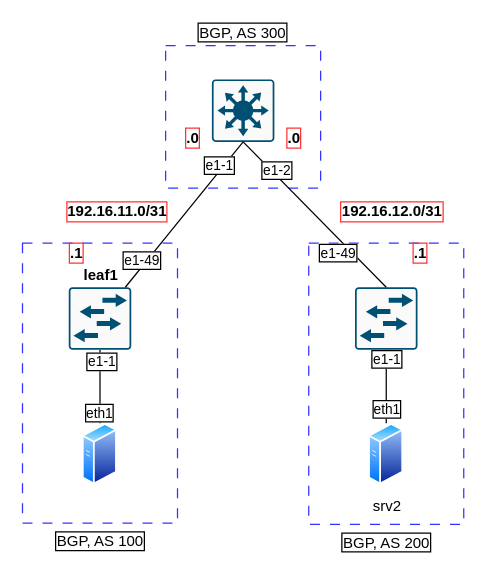
The diagram is 485 pixels wide and 574 high, and some of its shapes have lost their labels. The centre of each missing label's shape, as x and y in pixels:
leaf2: [386,318]
spine1: [242,110]
srv1: [99,453]
